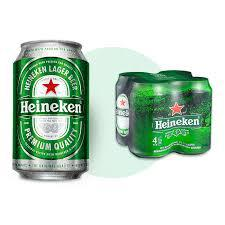beer: (14, 39, 88, 181)
